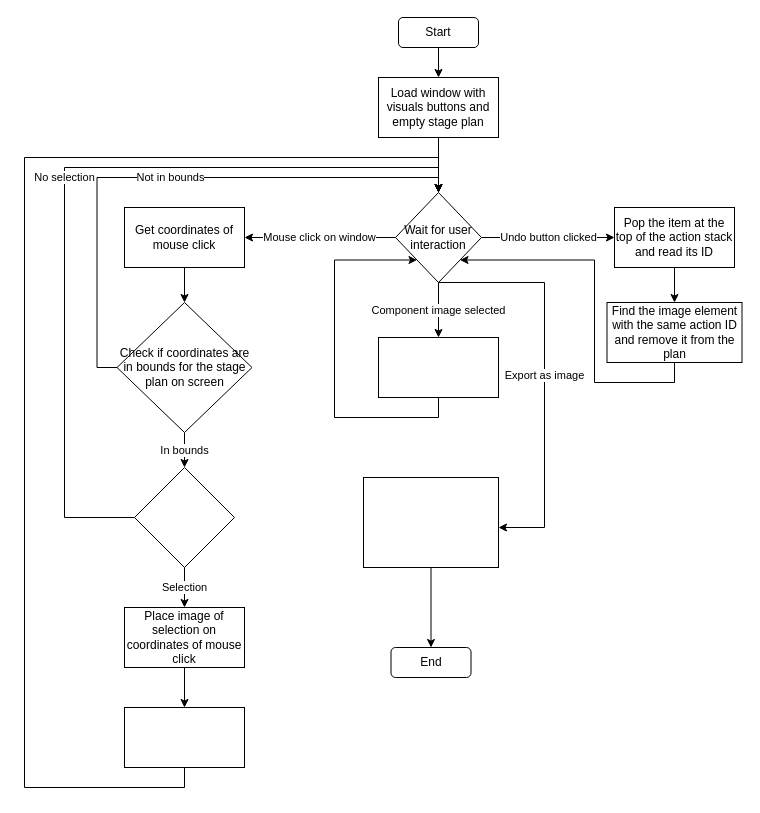
The diagram is 760 pixels wide and 813 high, and some of its shapes have lost their labels. The box of each missing label's shape, as (x1, y1, x2, y2) in pixels:
Add action ID to stack, as well as to the element added on screen: (124, 706, 244, 768)
Check if there is a current selection: (134, 466, 234, 568)
Stage plan with images of components saved as an image file to a folder: (362, 476, 498, 568)
Store the image ID of the image selected in a variable for current selection: (378, 336, 498, 398)
